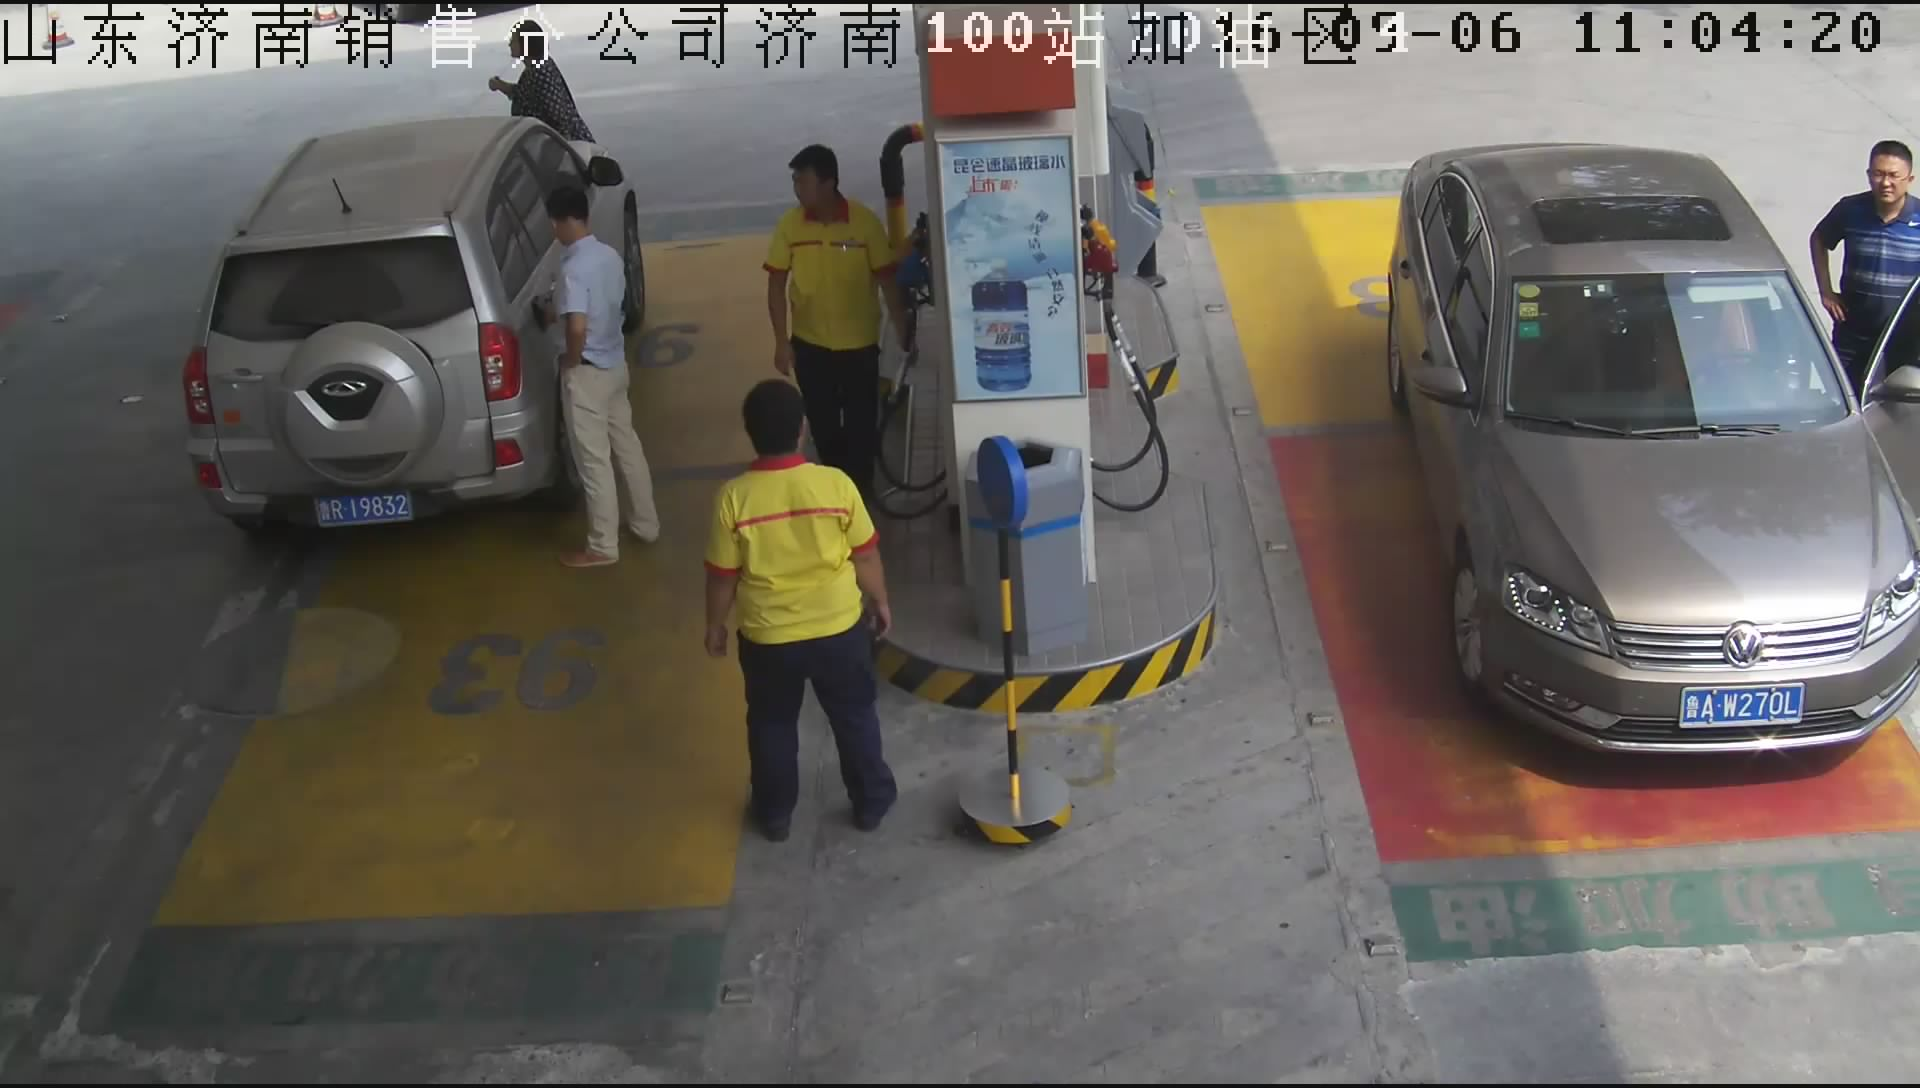blue: (1676, 682, 1807, 731), (313, 488, 415, 530)
